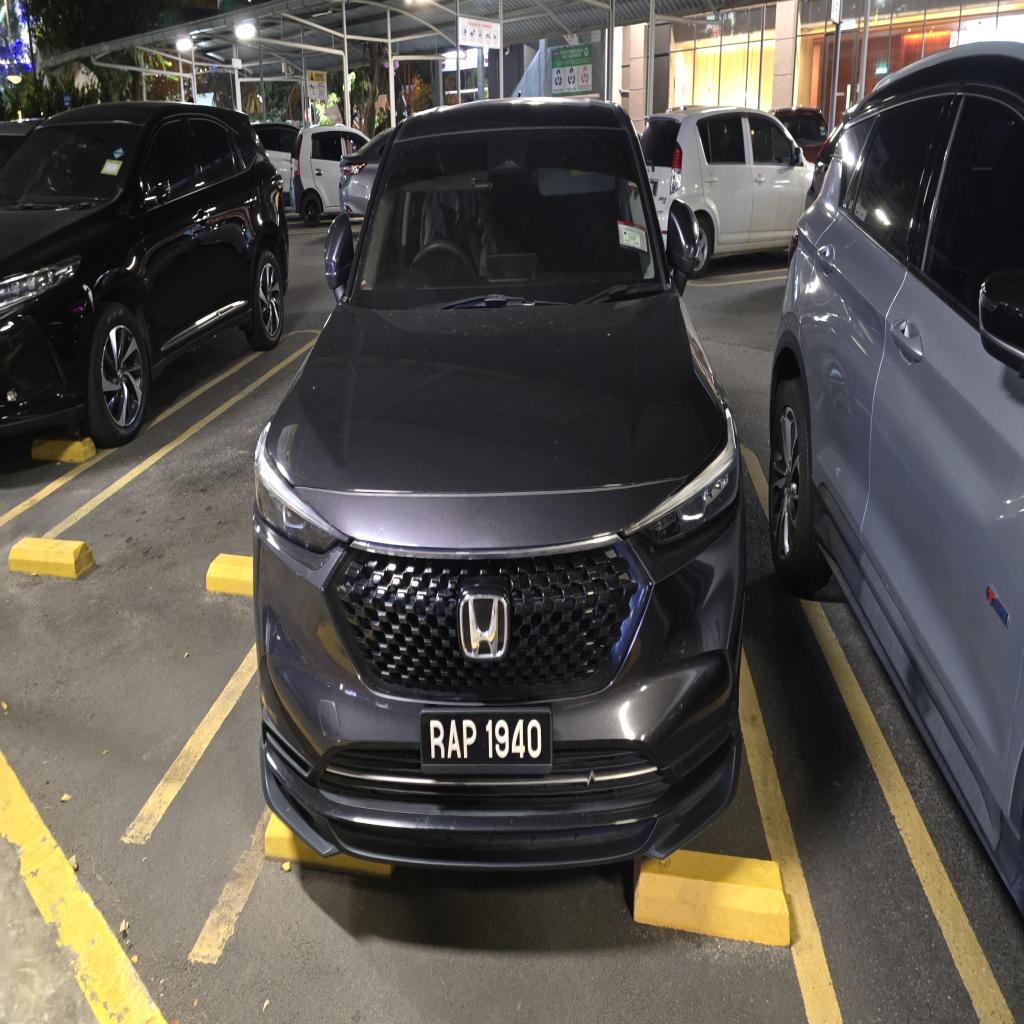car: (253, 99, 744, 868)
car plate: (421, 708, 551, 774)
